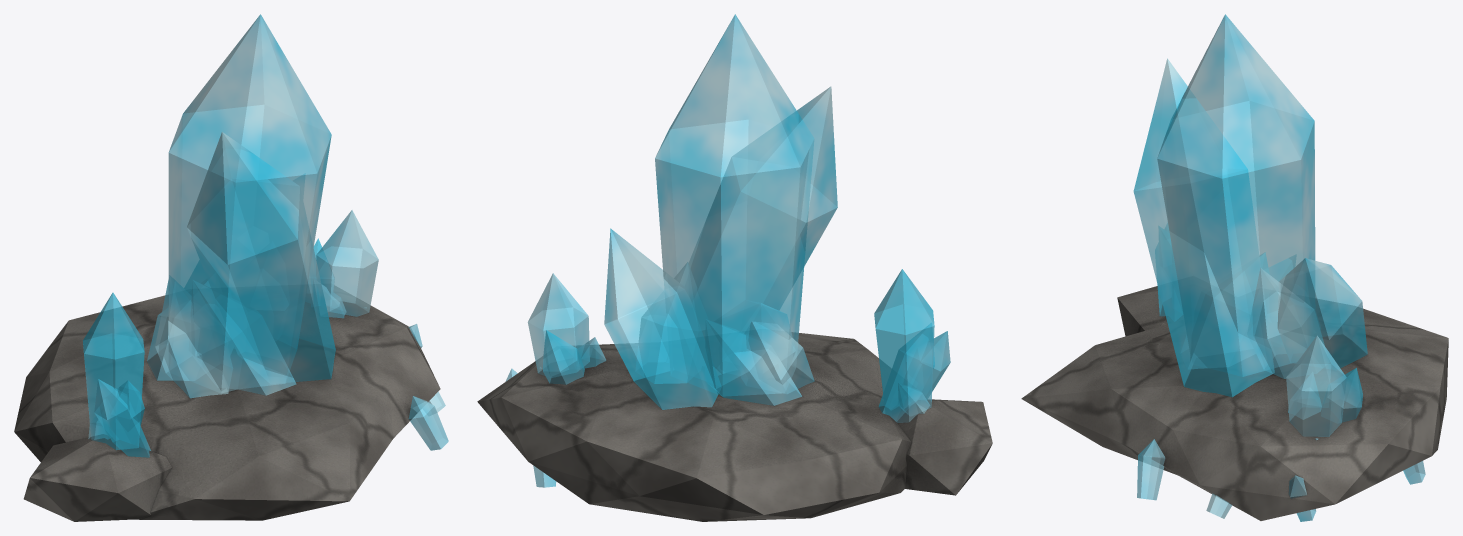
The model's file is mineral_cristal_azul.fbx.
3 renders of one model, left to right at view 1: azimuth 30°, elevation 25°; view 2: azimuth 150°, elevation 25°; view 3: azimuth 270°, elevation 25°, orthographic. The views are drawn at different scales.
Visible parts, largest first — view 1: mineral_cristal_azul_cristal, mineral_cristal_azul; view 2: mineral_cristal_azul_cristal, mineral_cristal_azul; view 3: mineral_cristal_azul_cristal, mineral_cristal_azul.
Boxes of the visible parts, <box> form: mineral_cristal_azul_cristal: <box>83,14,448,457</box>; mineral_cristal_azul: <box>14,286,440,521</box>; mineral_cristal_azul_cristal: <box>505,14,950,487</box>; mineral_cristal_azul: <box>477,332,992,521</box>; mineral_cristal_azul_cristal: <box>1133,14,1425,521</box>; mineral_cristal_azul: <box>1021,286,1448,520</box>.
Size of the model in its own units: 7.52 by 7.09 by 6.33.
2 materials, 2 textured.
